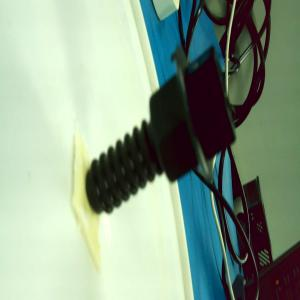parafuso: (84, 42, 238, 216), (83, 47, 236, 216)
